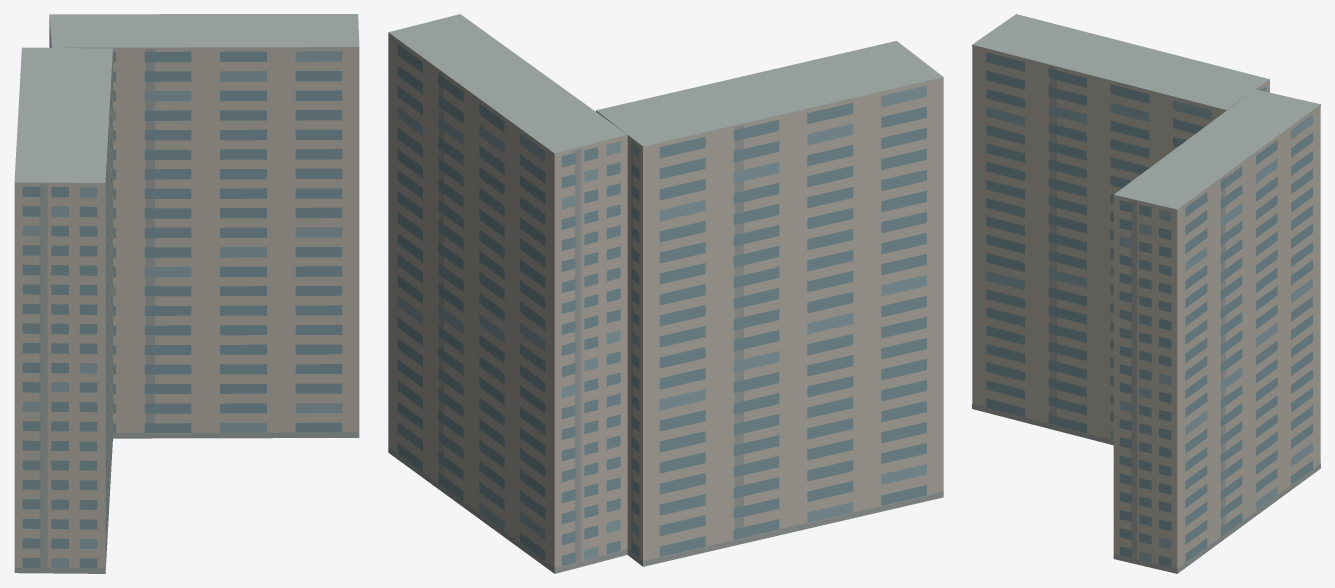
Rendered from residential-b2e7a614-2583-4749-8a6f-9b4eaae50fb9.glb.
3 views of the same model, side by side, from view 1: azimuth 30°, elevation 25°; view 2: azimuth 150°, elevation 25°; view 3: azimuth 270°, elevation 25° (orthographic). The views are drawn at different scales.
Parts seen in each view (by area): view 1: residential-b2e7a614-2583-4749-8a6f-9b4eaae50fb9.tmp; view 2: residential-b2e7a614-2583-4749-8a6f-9b4eaae50fb9.tmp; view 3: residential-b2e7a614-2583-4749-8a6f-9b4eaae50fb9.tmp.
Part boxes in pixels (left/top/right/bottom): residential-b2e7a614-2583-4749-8a6f-9b4eaae50fb9.tmp: left=14, top=14, right=359, bottom=573; residential-b2e7a614-2583-4749-8a6f-9b4eaae50fb9.tmp: left=388, top=14, right=943, bottom=573; residential-b2e7a614-2583-4749-8a6f-9b4eaae50fb9.tmp: left=972, top=14, right=1320, bottom=573.
Bounding box in the file's own units: 62.19 × 54 × 46.84.
